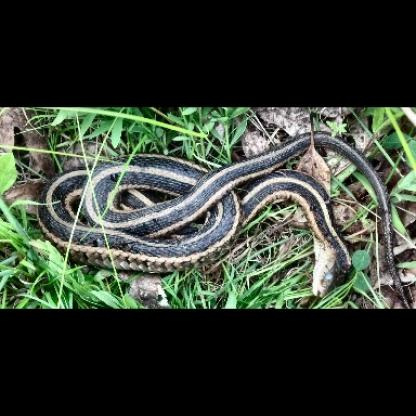Snake: (35, 131, 396, 295)
